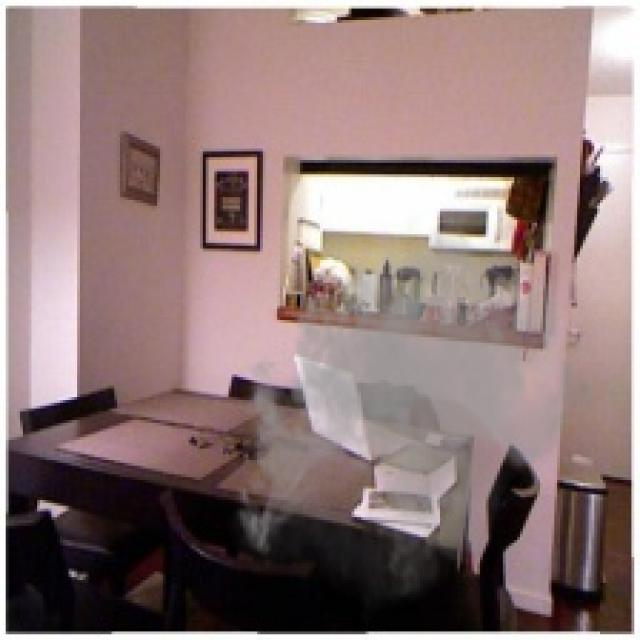smoke: (226, 206, 600, 623)
